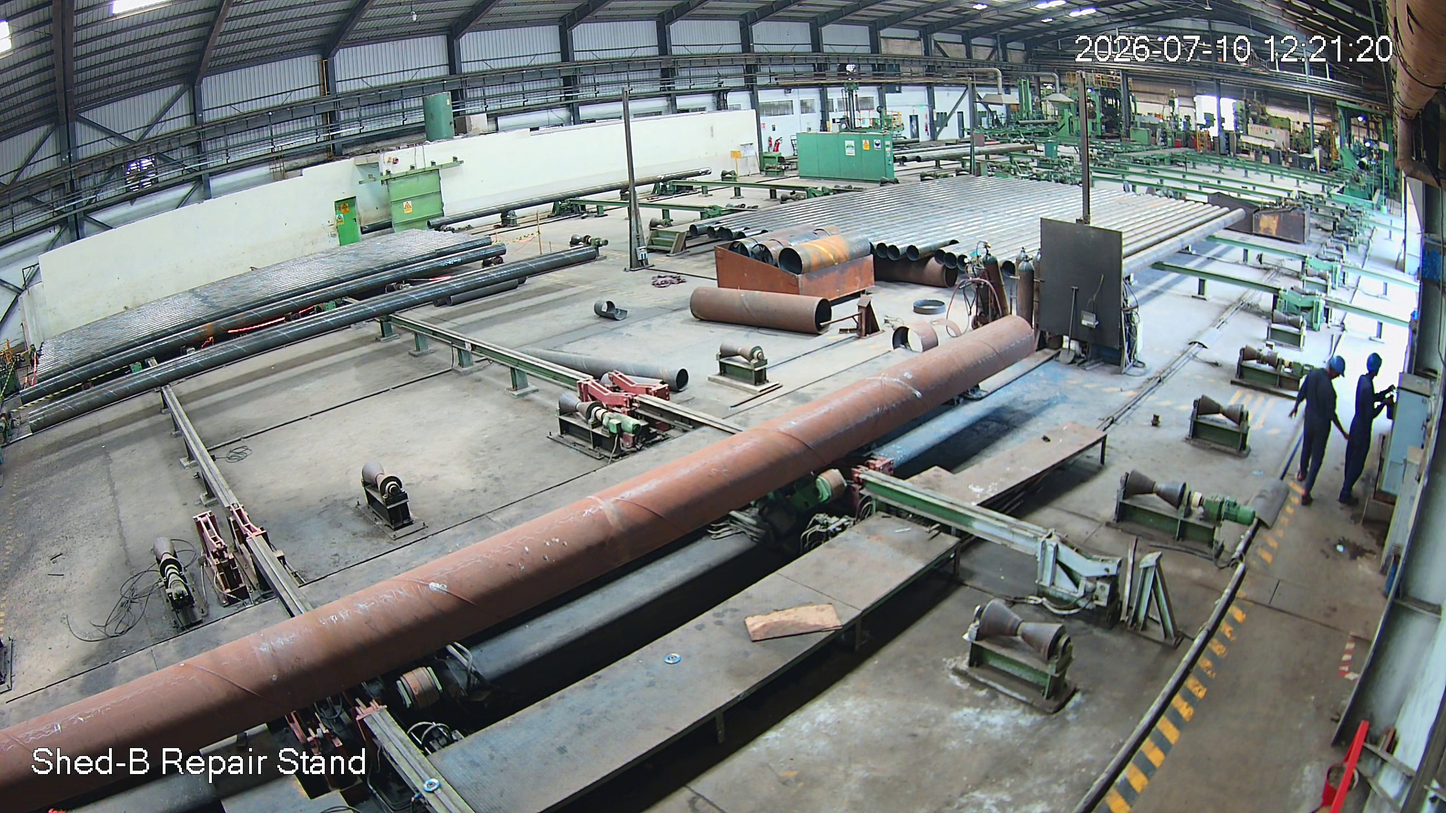Helmet: (1360, 343, 1386, 384), (1325, 348, 1349, 387)
Person: (1294, 351, 1353, 520), (1342, 350, 1393, 514)
